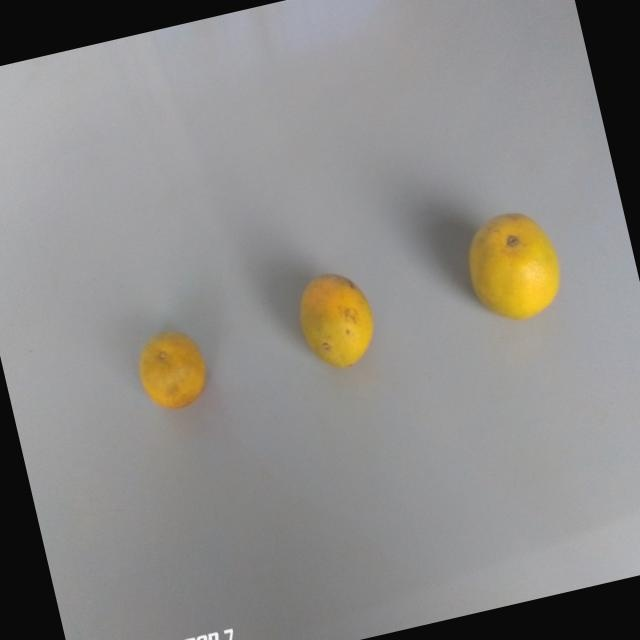agrume: (452, 199, 579, 333), (286, 259, 389, 381), (127, 313, 216, 422)
